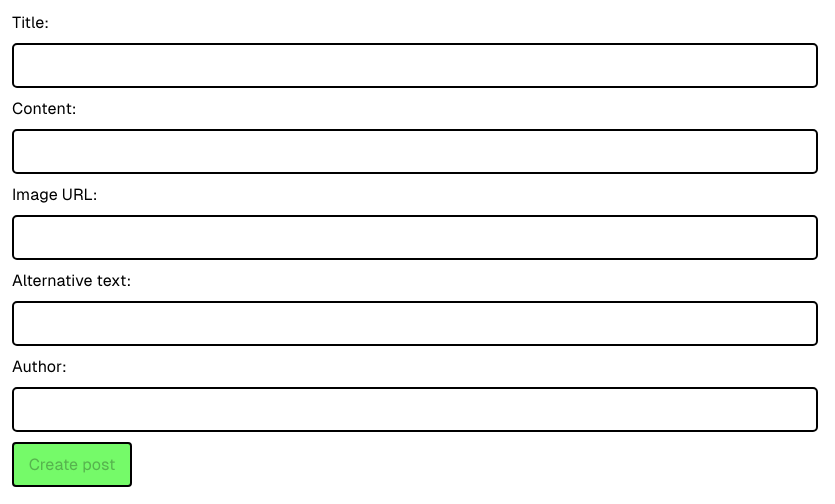
Test: Given the PostForm component › When the user fills all required fields › Then it should show an enabled 'Create post' button
Type "Me gustan las patatas" into the field labelled "Title:". click: (415, 66)
box: [12,43,818,88]
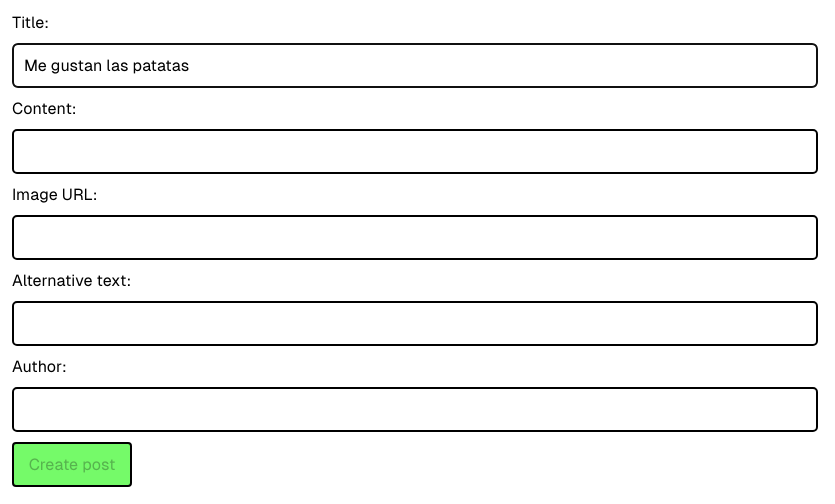
Type "Me encantan las patatas" into the field labelled "Content:". click: (415, 152)
box: [12,129,818,174]
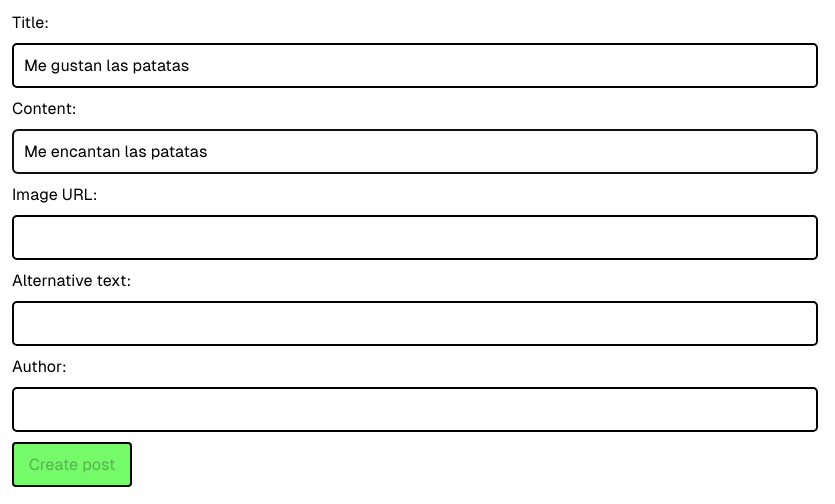
Type "patatas.webp" into the field labelled "Image URL:". click: (415, 238)
box: [12,215,818,260]
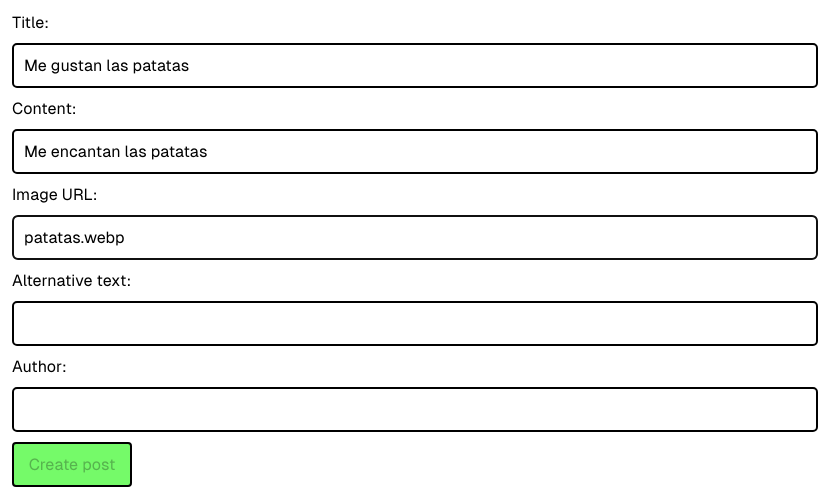
Type "Luis Luisez" into the field labelled "Author:". click: (415, 410)
box: [12,387,818,432]
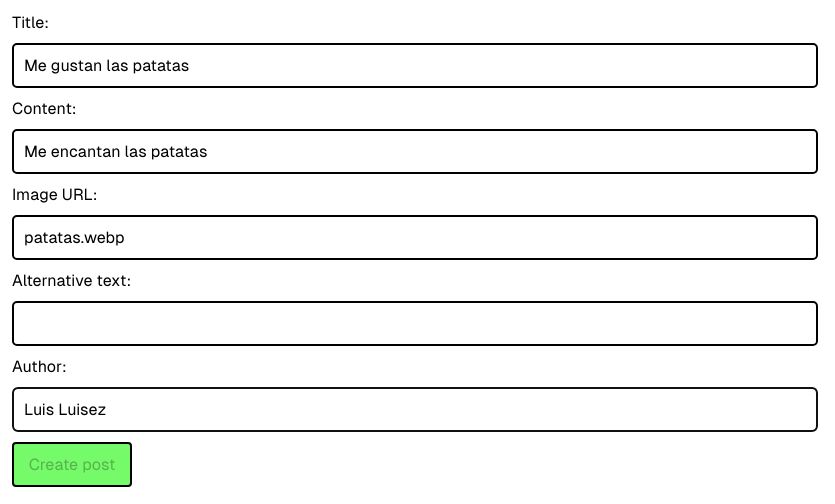
Type "Unas patatas fritas" into the field labelled "Alternative text:". click: (415, 324)
box: [12,301,818,346]
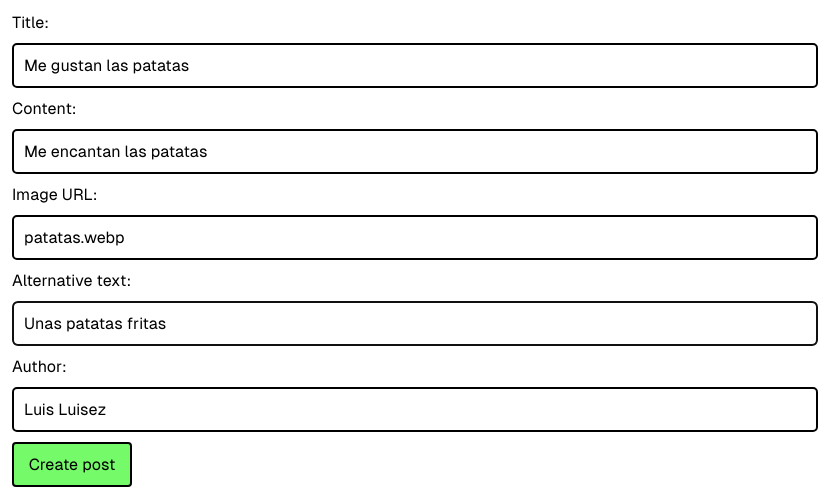
Now the button "Create post" is enabled, box [12,442,132,487]
